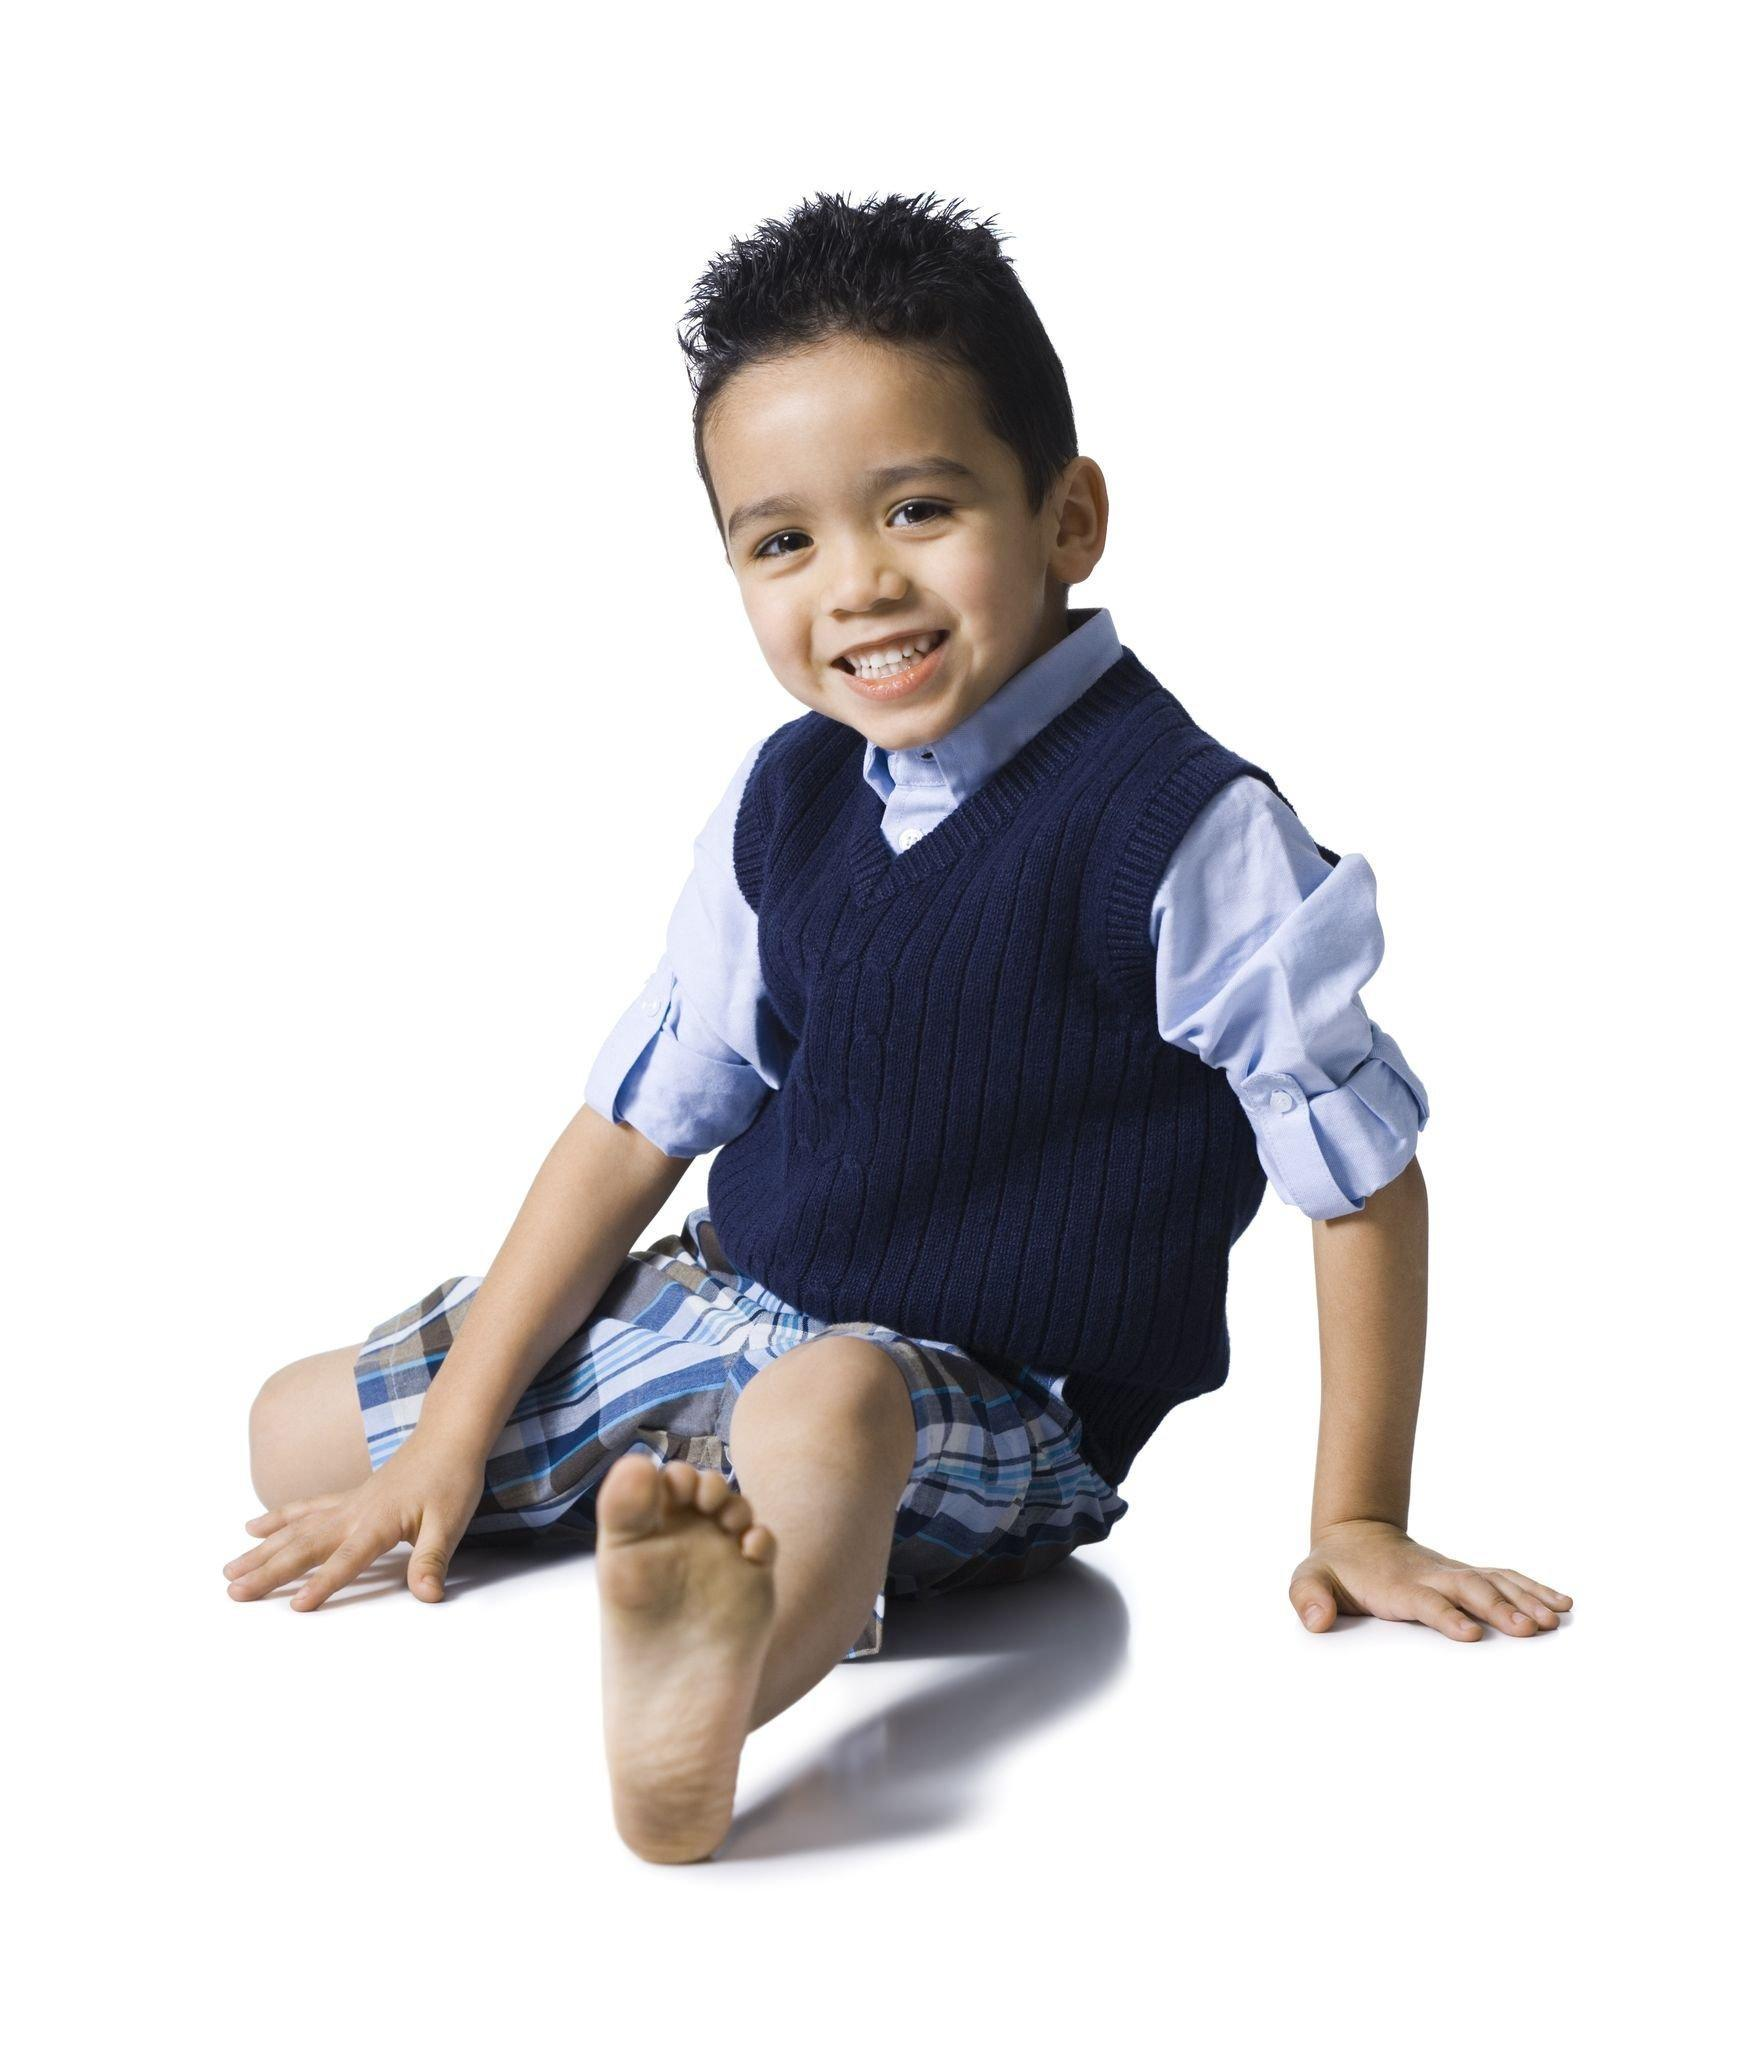Healthy: (677, 341, 1149, 771)
